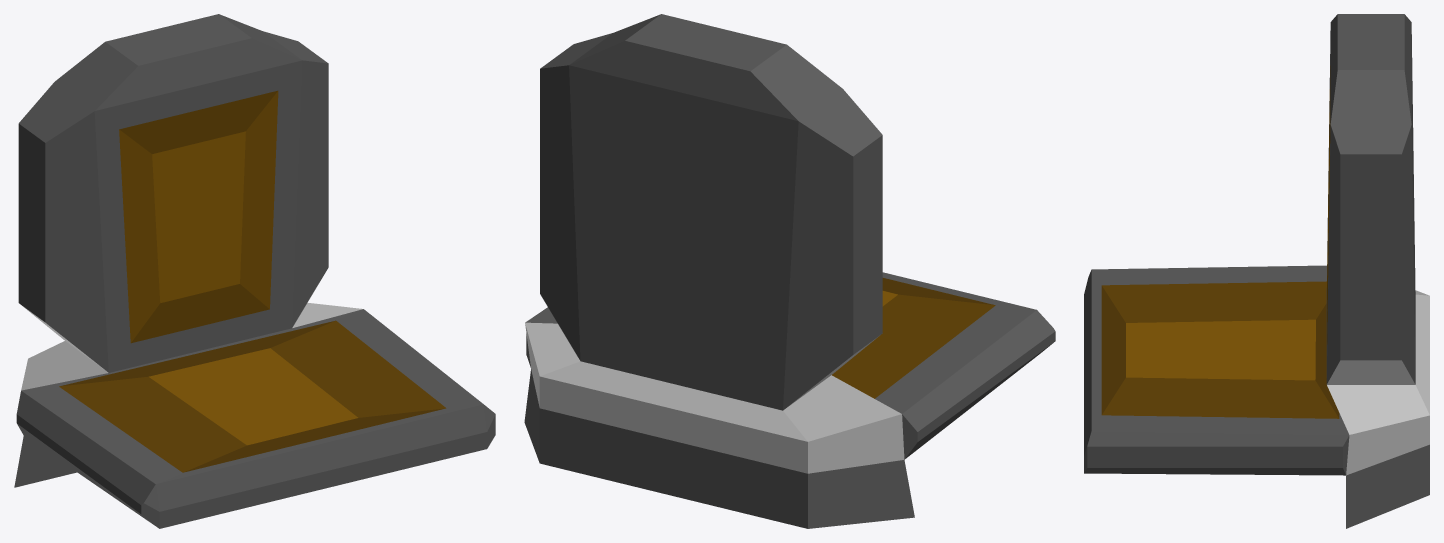
File: chairTwo.fbx
The picture shows the model from 3 angles, left to right: view 1: azimuth 30°, elevation 25°; view 2: azimuth 150°, elevation 25°; view 3: azimuth 270°, elevation 25°; orthographic projection. The views are drawn at different scales.
Parts seen in each view (by area): view 1: Cube; view 2: Cube; view 3: Cube.
Boxes of the visible parts, x1=… form: Cube: x1=14, y1=14, x2=495, y2=528; Cube: x1=524, y1=14, x2=1055, y2=528; Cube: x1=1084, y1=14, x2=1429, y2=528.
Bounding box in the file's own units: 251 × 269 × 211.
